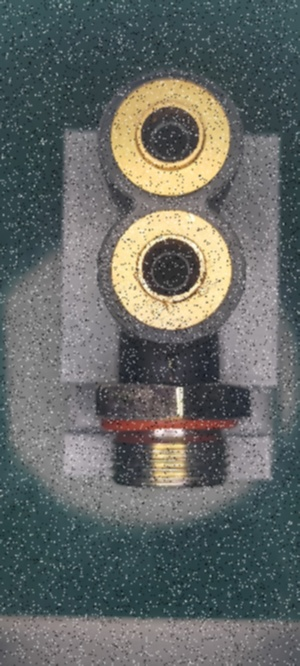craze: (164, 346, 182, 384)
